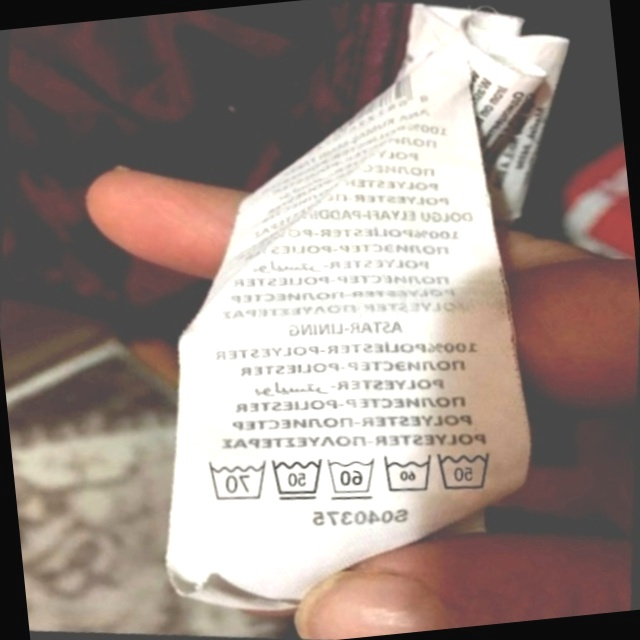50C: (427, 437, 501, 502), (262, 448, 330, 510)
60C: (317, 447, 382, 507), (374, 444, 439, 503)
70C: (197, 450, 271, 510)
